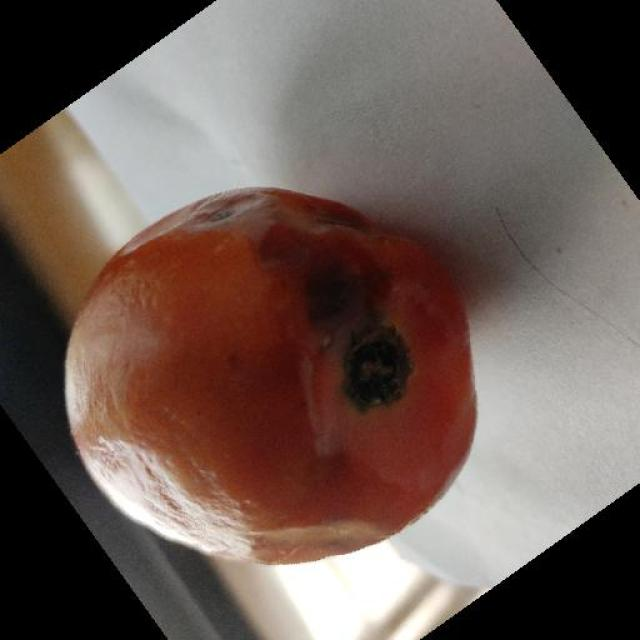Stale_tomato: (58, 196, 470, 547)
